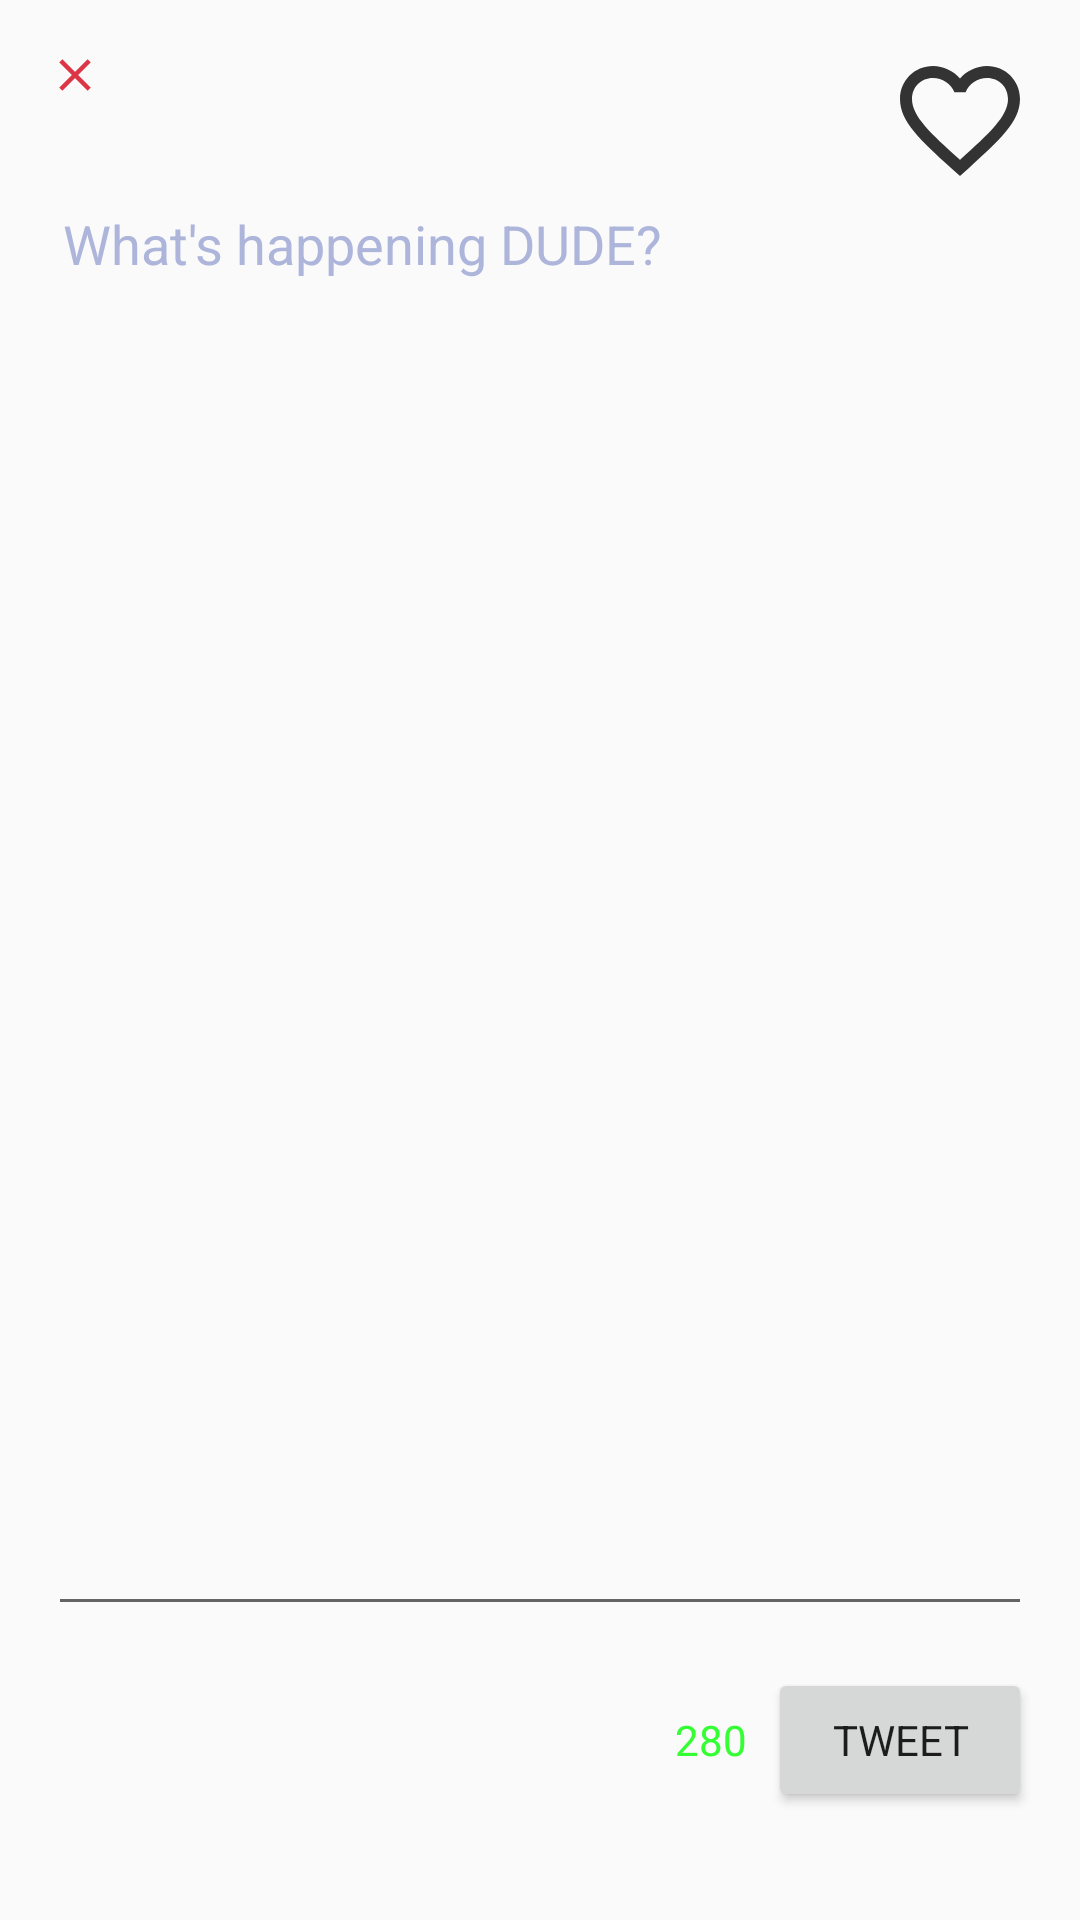

Where icons sit on this 1080×1920 app screen, as bbox=[x1, y1, x2, y2]:
close: bbox=[59, 59, 91, 91]
favorite: bbox=[900, 66, 1020, 176]
